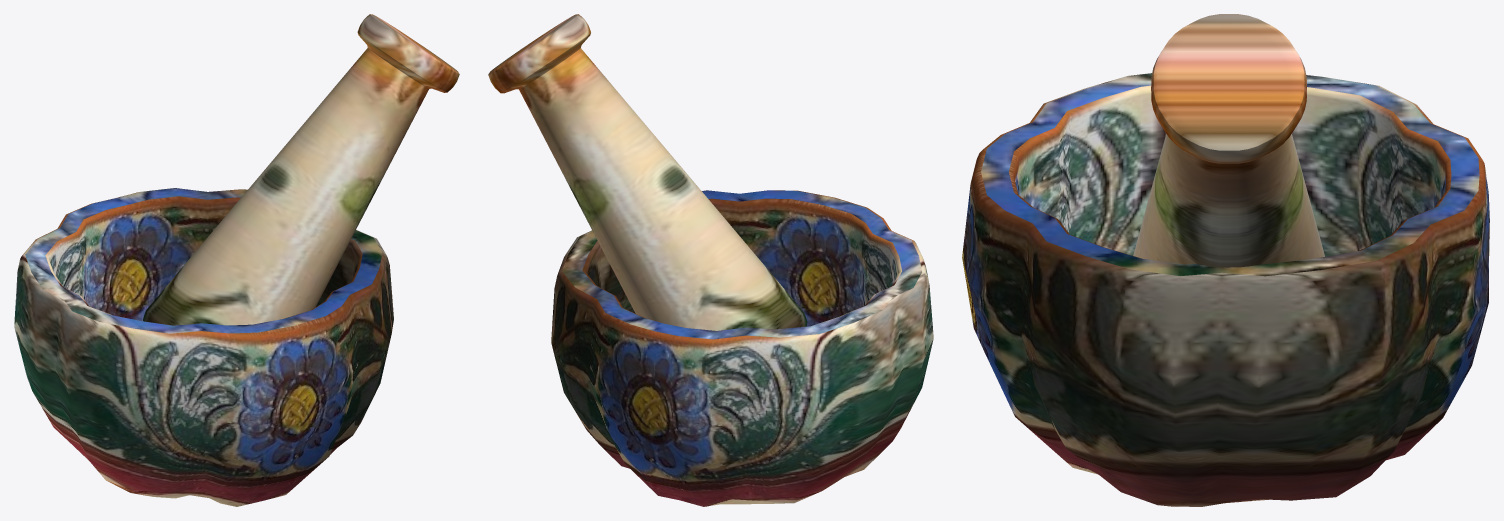
File: Bowl4.fbx
3 views of the same model, side by side, from view 1: azimuth 30°, elevation 25°; view 2: azimuth 150°, elevation 25°; view 3: azimuth 270°, elevation 25° (orthographic). The views are drawn at different scales.
Parts seen in each view (by area): view 1: Bowl4, Pestle4; view 2: Bowl4, Pestle4; view 3: Bowl4, Pestle4.
Boxes of the visible parts, x1,y1,x2,y2 form: Bowl4: (14,188,393,506); Pestle4: (143,14,459,325); Bowl4: (551,190,933,506); Pestle4: (488,14,807,330); Bowl4: (962,73,1489,506); Pestle4: (1133,14,1324,267).
Size of the model in its own units: 443 by 426 by 358.
